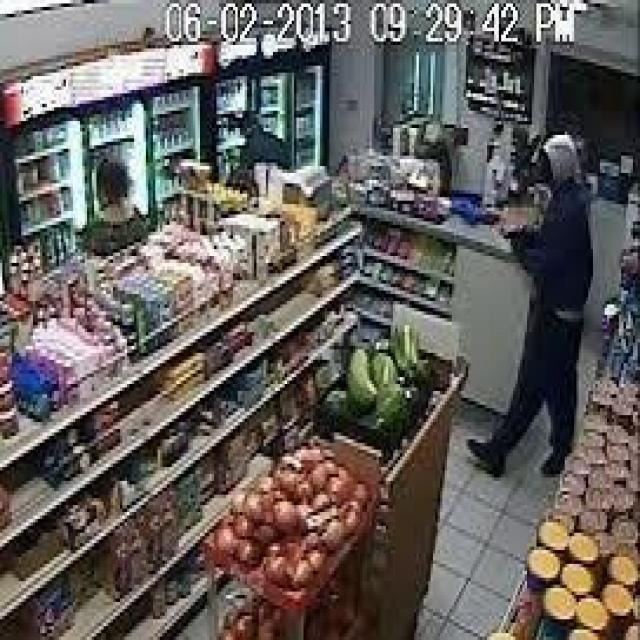weapon: (499, 218, 532, 252)
